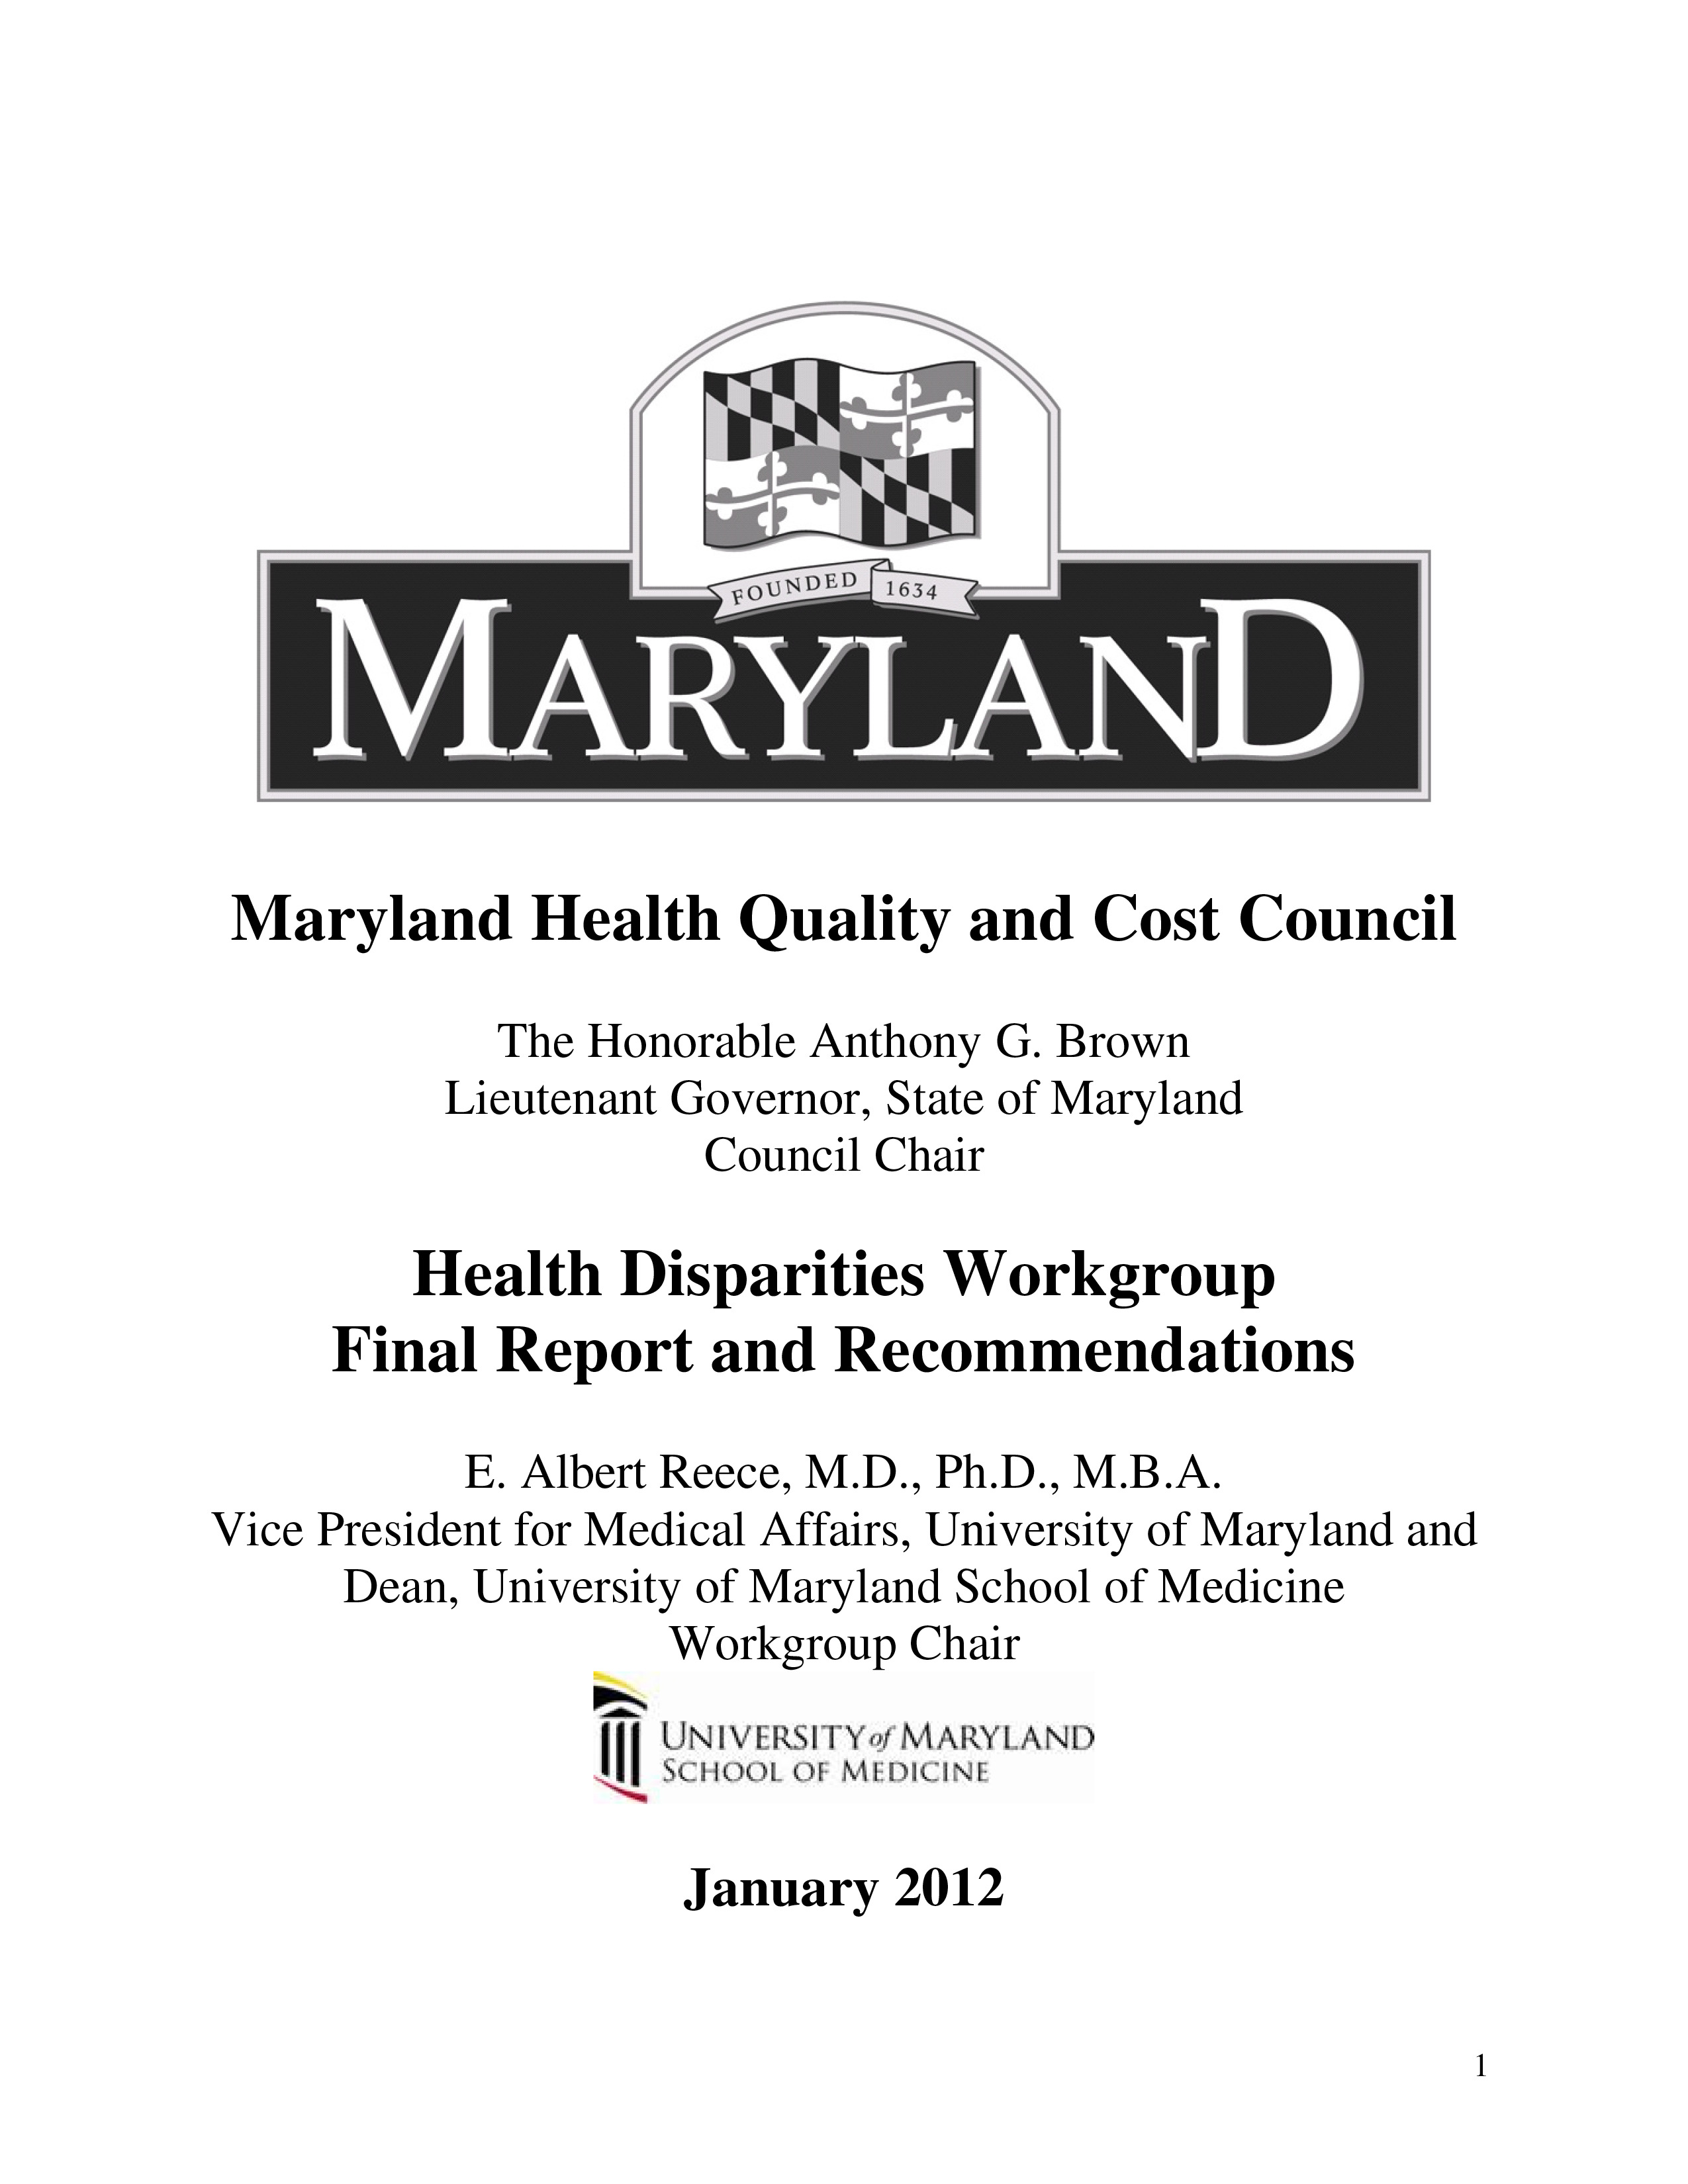figure: (576, 284, 1115, 589), (576, 1675, 637, 1831)
section: (303, 585, 1365, 776), (340, 1236, 1355, 1406), (204, 886, 1495, 963)
text: (186, 1434, 1491, 1675), (429, 1021, 1259, 1189), (656, 1711, 1112, 1812), (663, 1851, 1053, 1918)
